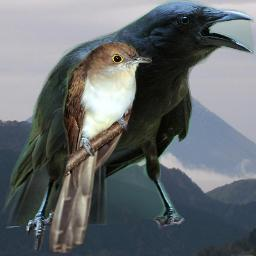Crow: (2, 0, 254, 251)
Cuckoo: (49, 40, 152, 253)
